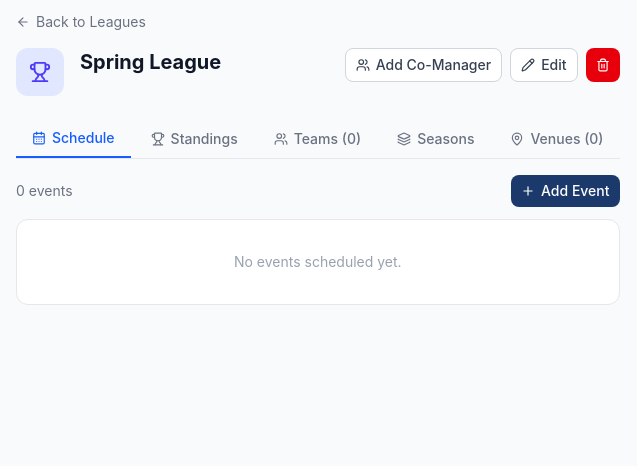
it: LeagueDetailPage — empty Seasons tab CTA › shows "Create First Season" button when admin opens the Seasons tab with no seasons
Click the tab "Seasons": [436, 139] box [381,120,490,158]
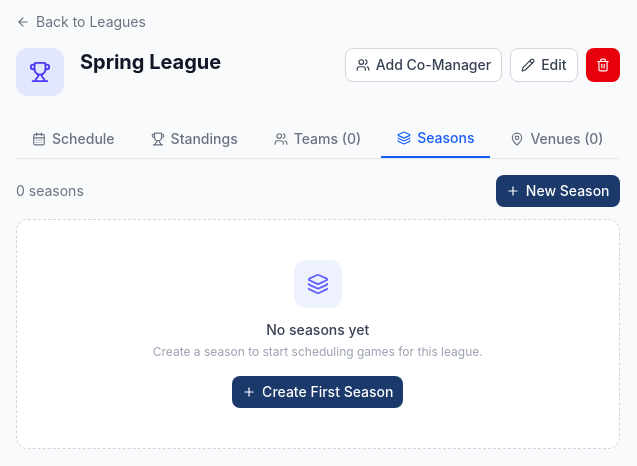
Expected: the button "Create First Season" is shown, [232,376,403,408]
